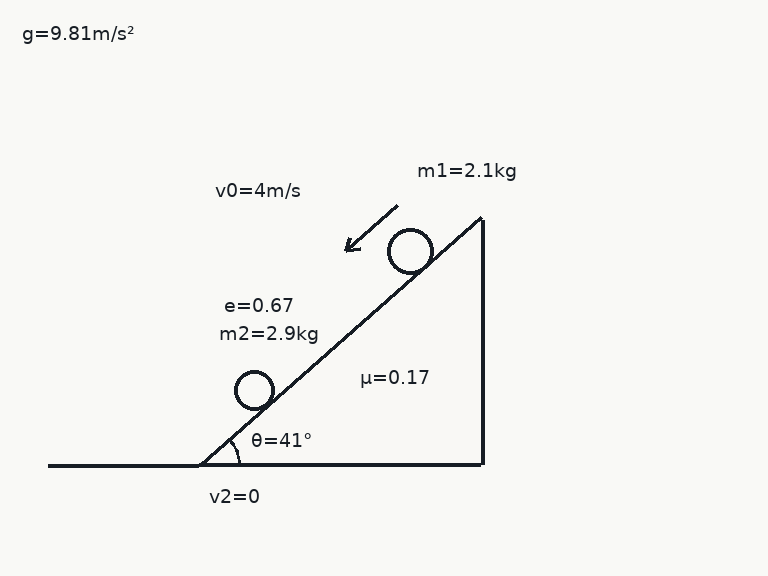ball: (385, 226, 435, 276), (232, 368, 276, 412)
ramp: (197, 218, 483, 467)
